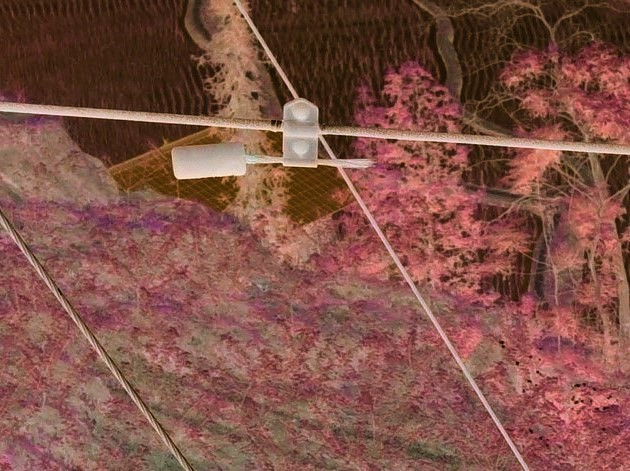Damage of shockproof hammer: (157, 92, 384, 185)
